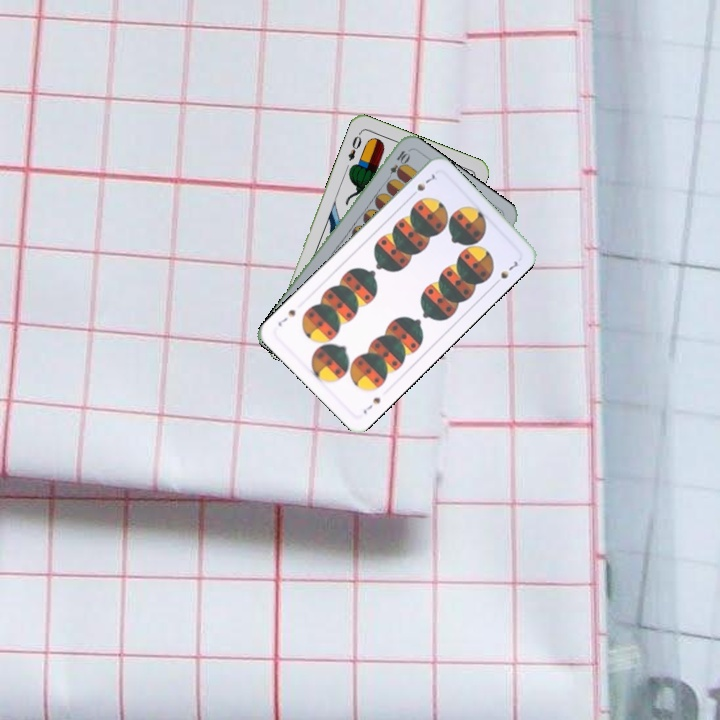E10: (382, 146, 411, 184)
EO: (344, 128, 364, 163)
S7: (406, 169, 440, 200), (359, 393, 383, 417)
